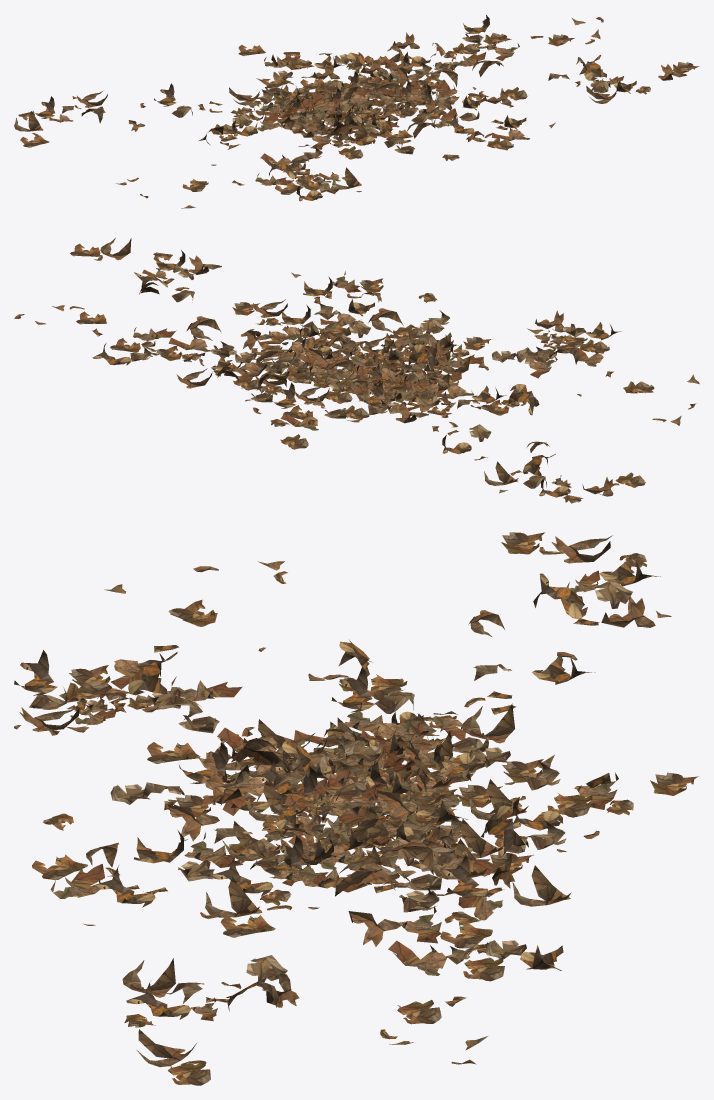
3 renders of one model, top to bottom at view 1: azimuth 30°, elevation 25°; view 2: azimuth 150°, elevation 25°; view 3: azimuth 270°, elevation 25°, orthographic. The views are drawn at different scales.
Visible parts, largest first — view 1: LeafLitter_01.Shape, Leaf Litter 02.Shape, Leaf Litter 03.Shape, Leaf Litter 06.Shape, Leaf Litter 05.Shape, Leaf Litter 04.Shape; view 2: LeafLitter_01.Shape, Leaf Litter 02.Shape, Leaf Litter 03.Shape, Leaf Litter 06.Shape, Leaf Litter 05.Shape, Leaf Litter 04.Shape; view 3: LeafLitter_01.Shape, Leaf Litter 02.Shape, Leaf Litter 03.Shape, Leaf Litter 06.Shape, Leaf Litter 05.Shape, Leaf Litter 04.Shape.
Part boxes in pixels (bbox=[...]): LeafLitter_01.Shape: bbox=[14, 15, 603, 171]; Leaf Litter 02.Shape: bbox=[116, 45, 699, 208]; Leaf Litter 03.Shape: bbox=[199, 63, 527, 165]; Leaf Litter 06.Shape: bbox=[261, 54, 412, 148]; Leaf Litter 05.Shape: bbox=[262, 71, 431, 129]; Leaf Litter 04.Shape: bbox=[280, 75, 400, 117]; LeafLitter_01.Shape: bbox=[14, 271, 645, 503]; Leaf Litter 02.Shape: bbox=[70, 238, 699, 449]; Leaf Litter 03.Shape: bbox=[232, 299, 581, 423]; Leaf Litter 06.Shape: bbox=[231, 318, 470, 420]; Leaf Litter 05.Shape: bbox=[271, 327, 451, 406]; Leaf Litter 04.Shape: bbox=[287, 348, 420, 407]; LeafLitter_01.Shape: bbox=[32, 532, 671, 1064]; Leaf Litter 02.Shape: bbox=[14, 561, 698, 1085]; Leaf Litter 03.Shape: bbox=[205, 640, 560, 937]; Leaf Litter 06.Shape: bbox=[143, 719, 592, 879]; Leaf Litter 05.Shape: bbox=[277, 714, 489, 868]; Leaf Litter 04.Shape: bbox=[284, 741, 485, 846].
Size of the model in its own units: 301 by 10.69 by 157.
Materials: 1 (1 with a texture image).
